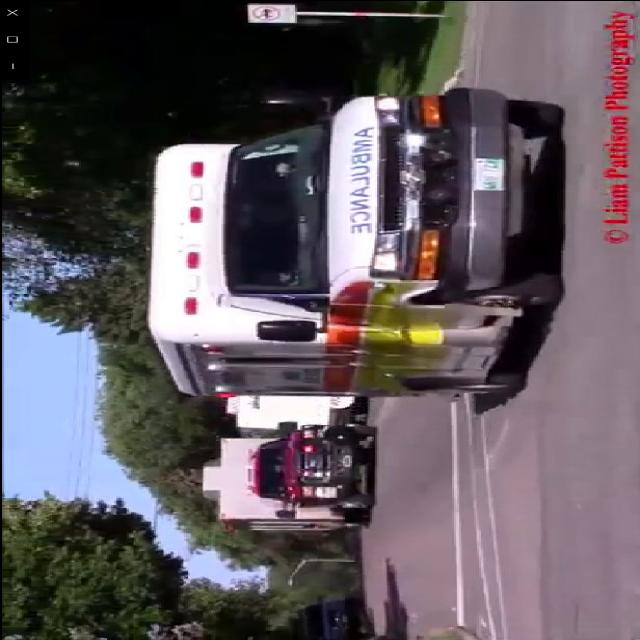emergency: (140, 76, 583, 404), (192, 420, 389, 536)
